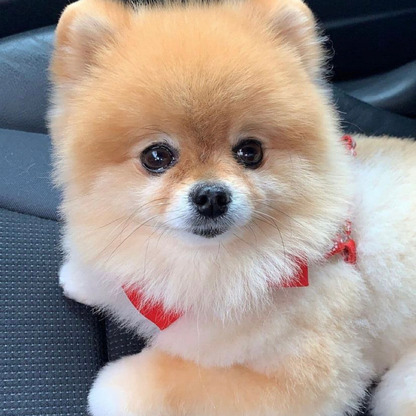Pomeranian: (49, 11, 361, 395)
